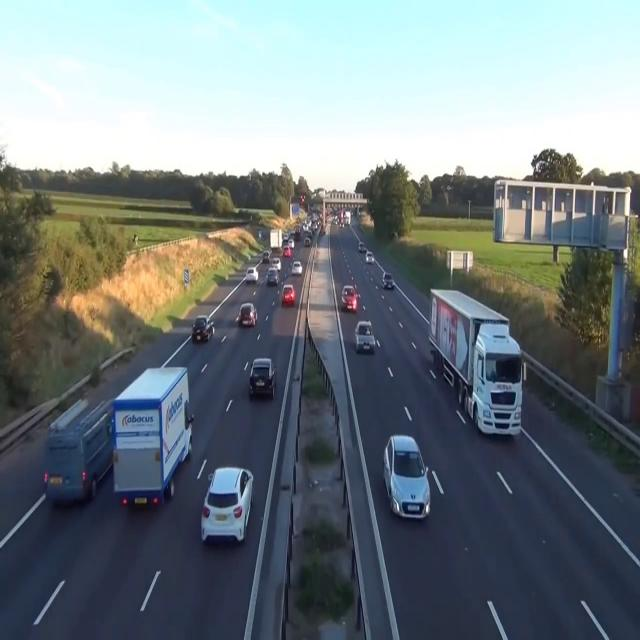belum terisi: (428, 277, 531, 452), (106, 353, 196, 511), (46, 384, 110, 502), (378, 420, 440, 540), (196, 448, 254, 548), (347, 311, 388, 365), (243, 350, 280, 403), (184, 304, 220, 349), (232, 292, 261, 336), (334, 276, 362, 317), (276, 276, 297, 316), (382, 267, 398, 293)
